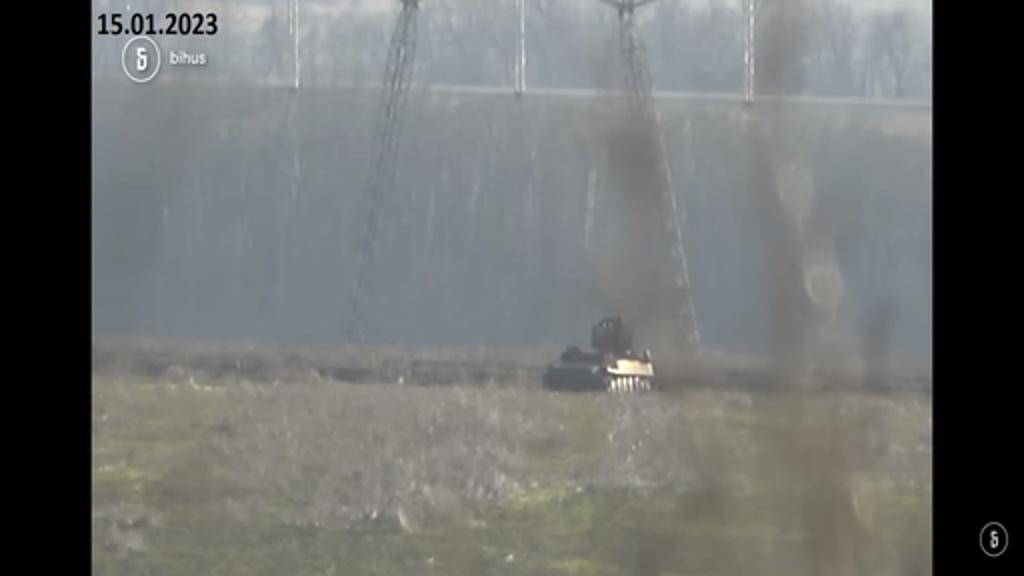APC-IFV: (530, 312, 650, 402)
